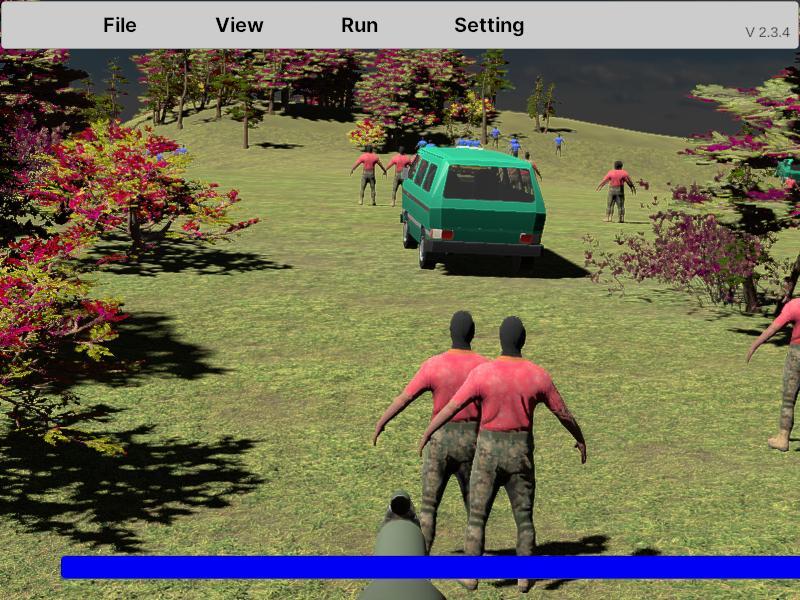Human: (418, 315, 588, 594), (420, 322, 588, 585), (371, 308, 527, 564), (746, 257, 800, 454), (596, 160, 636, 224), (350, 144, 386, 205), (384, 145, 414, 208)
car: (400, 146, 547, 273)
